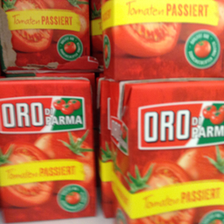tomato_sauce: (109, 80, 224, 221), (1, 76, 98, 224), (100, 1, 224, 80)
